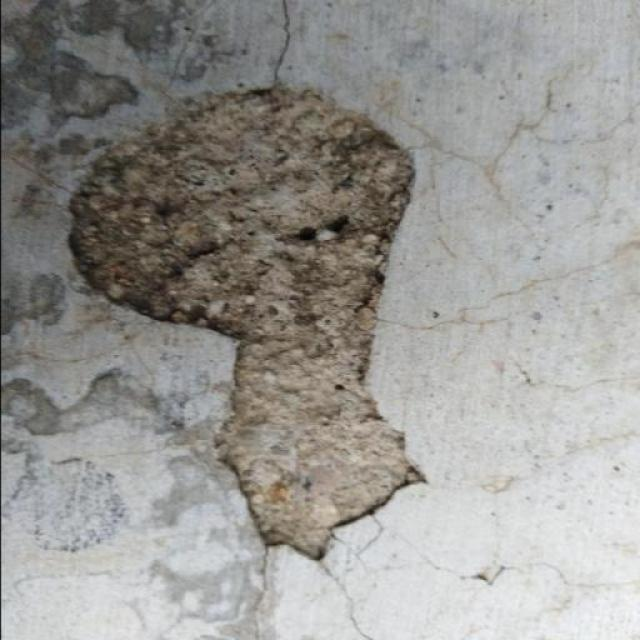D10: (66, 82, 424, 562), (0, 0, 225, 136)
